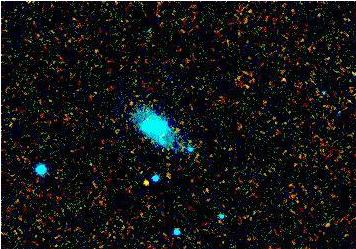star: (132, 166, 162, 196)
